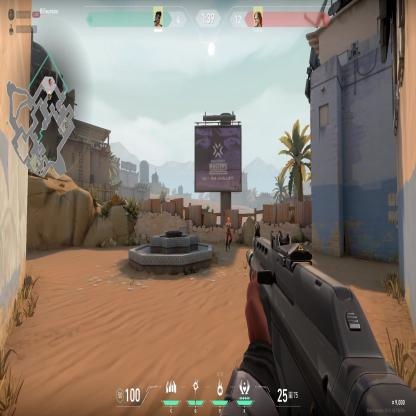enemy: (224, 216, 232, 252)
